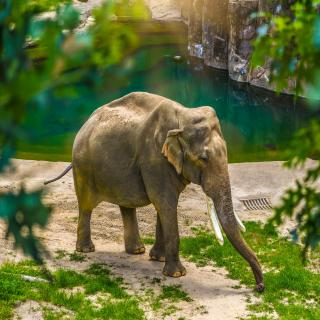Elephant: (38, 86, 270, 293)
